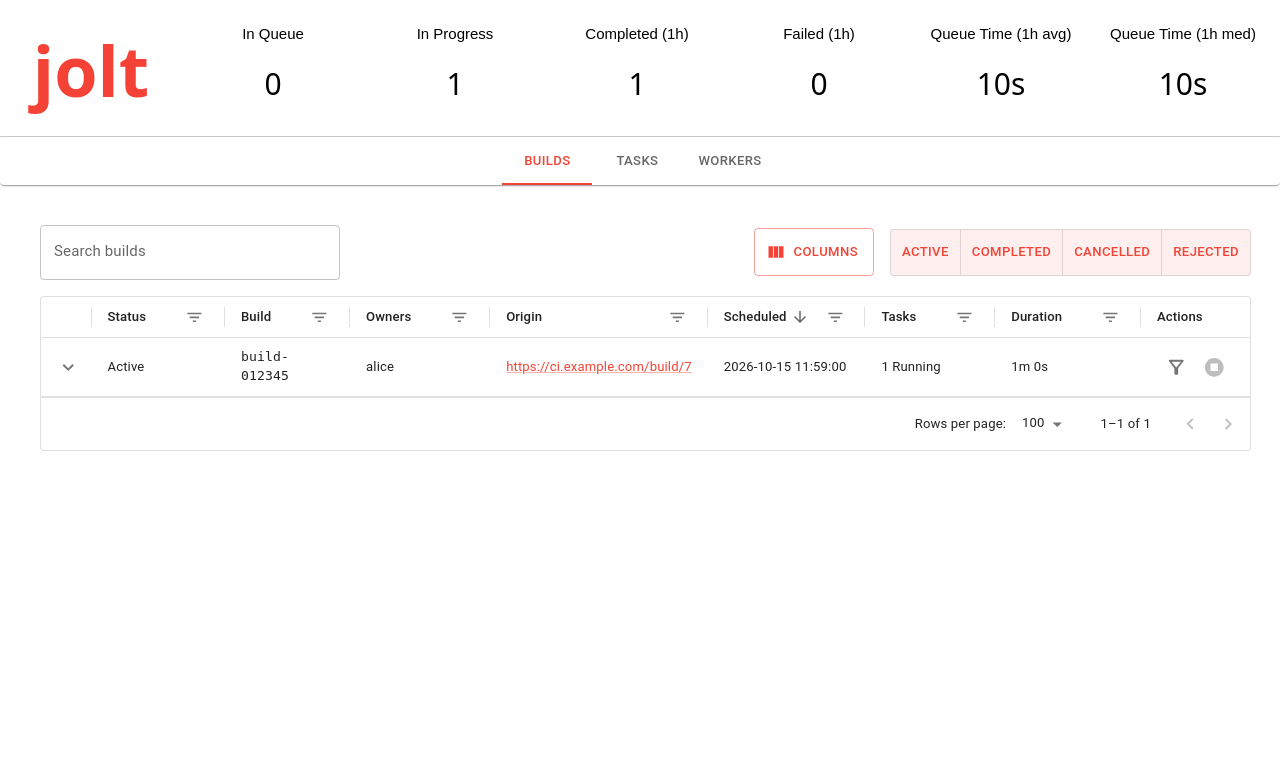
clicking anywhere on a build row expands and collapses it, but its actions do not
Click the text "Active" at (158, 367), box [92,338,225,396]
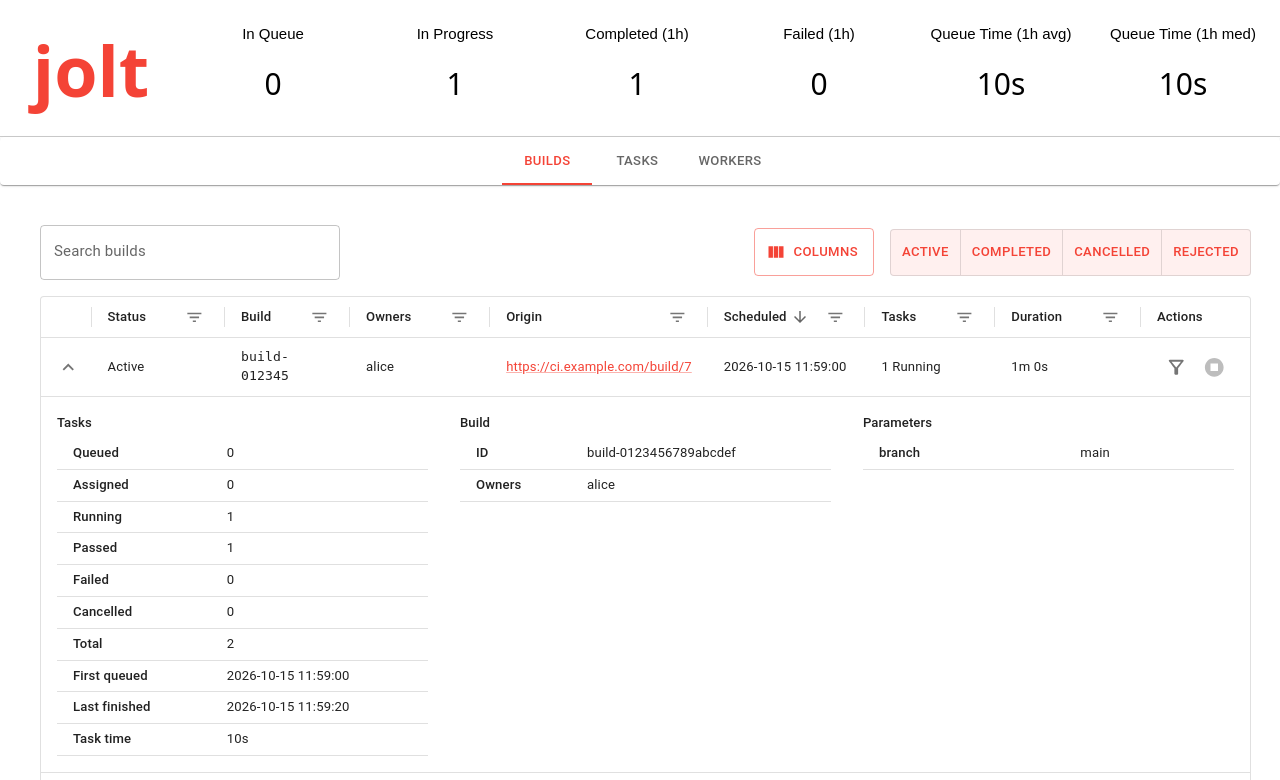
expect the text "build-012345" is expanded: met, box [41,338,1250,396]
expect the table named "Build parameters" is shown: met, box [863,438,1234,470]
Click the button named "Filter by build" at (1176, 367), box [1157,348,1195,386]
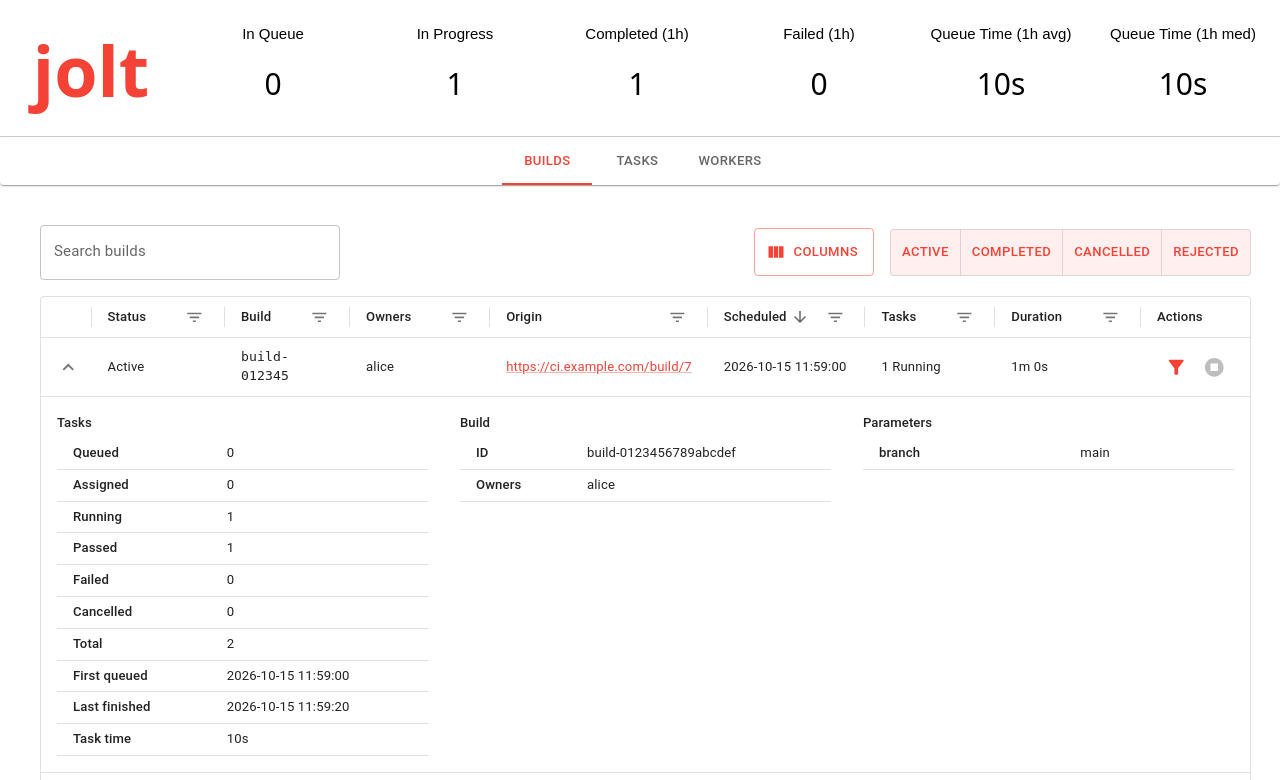
expect the cell "build-0123456789abcdef" is shown: met, box [571,438,831,470]
expect the text "build-012345" is expanded: met, box [41,338,1250,396]
Click the text "alice" at (380, 366), box [366,359,394,374]
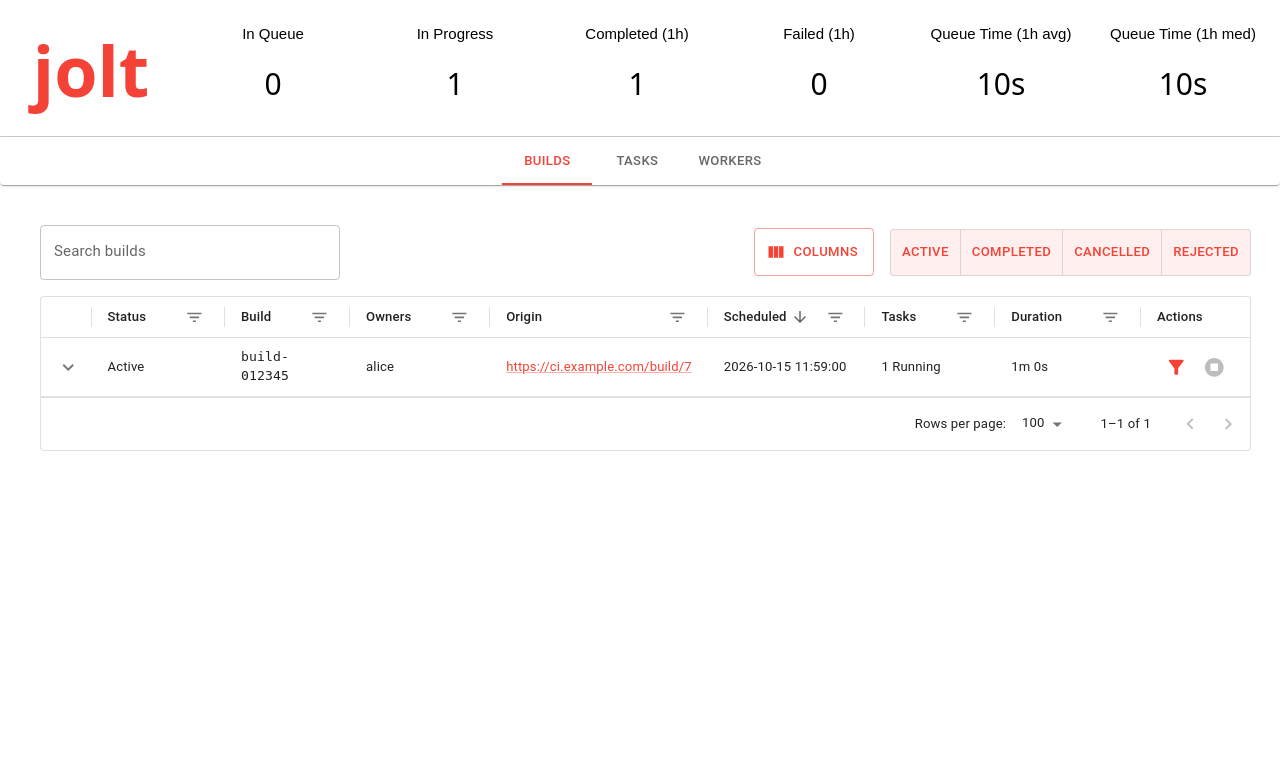
expect the text "build-012345" is collapsed: met, box [41,338,1250,396]
